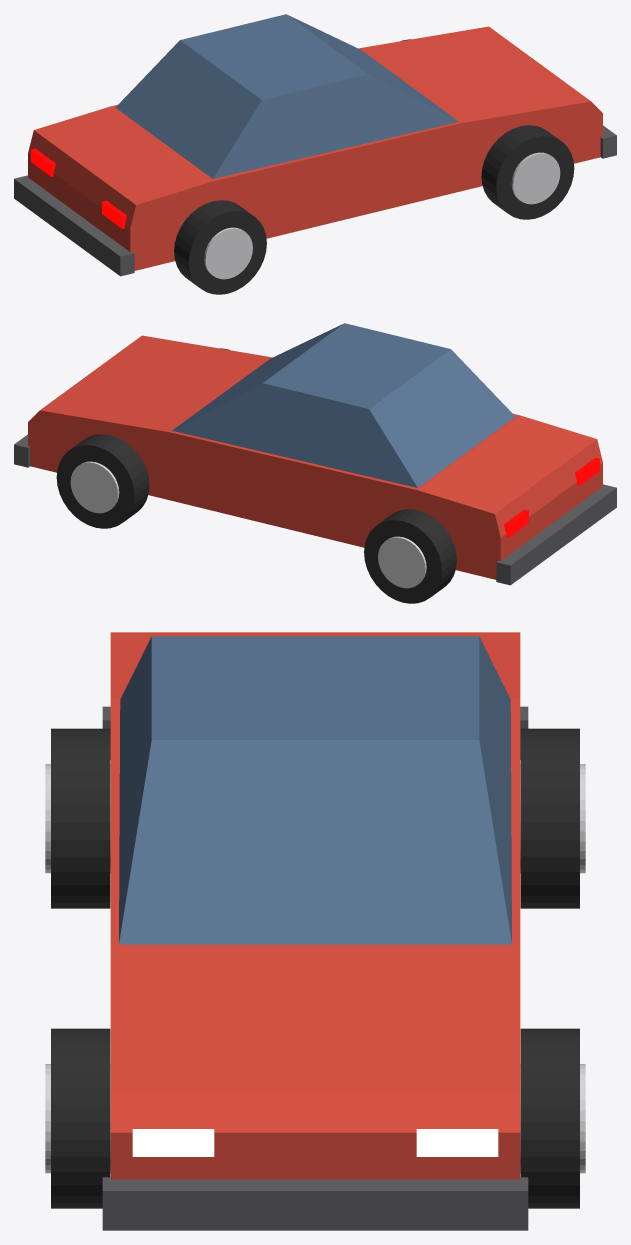
Rendered from car.glb.
The picture shows the model from 3 angles, top to bottom: view 1: azimuth 30°, elevation 25°; view 2: azimuth 150°, elevation 25°; view 3: azimuth 270°, elevation 25°; orthographic projection. The views are drawn at different scales.
Visible parts, largest first — view 1: Body, Cabin, Wheel_RR, Wheel_FR, Bumper_R, Bumper_F, Taillight_L, Taillight_R; view 2: Body, Cabin, Wheel_RL, Wheel_FL, Bumper_R, Bumper_F, Taillight_L, Taillight_R; view 3: Cabin, Body, Bumper_F, Wheel_RL, Wheel_RR, Wheel_FL, Wheel_FR, Headlight_L, Headlight_R.
Boxes of the visible parts, x1=… form: Body: x1=28, y1=26, x2=602, y2=270; Cabin: x1=115, y1=14, x2=458, y2=178; Wheel_RR: x1=174, y1=200, x2=266, y2=294; Wheel_FR: x1=481, y1=125, x2=574, y2=219; Bumper_R: x1=14, y1=175, x2=134, y2=276; Bumper_F: x1=600, y1=125, x2=616, y2=158; Taillight_L: x1=31, y1=148, x2=55, y2=176; Taillight_R: x1=102, y1=200, x2=126, y2=228; Body: x1=28, y1=335, x2=602, y2=579; Cabin: x1=172, y1=323, x2=515, y2=487; Wheel_RL: x1=364, y1=509, x2=456, y2=603; Wheel_FL: x1=56, y1=434, x2=149, y2=528; Bumper_R: x1=496, y1=484, x2=616, y2=585; Bumper_F: x1=14, y1=434, x2=30, y2=467; Taillight_L: x1=504, y1=509, x2=528, y2=537; Taillight_R: x1=575, y1=457, x2=599, y2=485; Cabin: x1=119, y1=636, x2=511, y2=944; Body: x1=110, y1=632, x2=520, y2=1179; Bumper_F: x1=102, y1=1177, x2=528, y2=1230; Wheel_RL: x1=520, y1=728, x2=585, y2=908; Wheel_RR: x1=45, y1=728, x2=110, y2=908; Wheel_FL: x1=520, y1=1028, x2=585, y2=1208; Wheel_FR: x1=45, y1=1028, x2=110, y2=1208; Headlight_L: x1=416, y1=1129, x2=498, y2=1156; Headlight_R: x1=132, y1=1129, x2=214, y2=1156.
Bounding box in the file's own units: 4.2 × 1.3 × 1.98.
